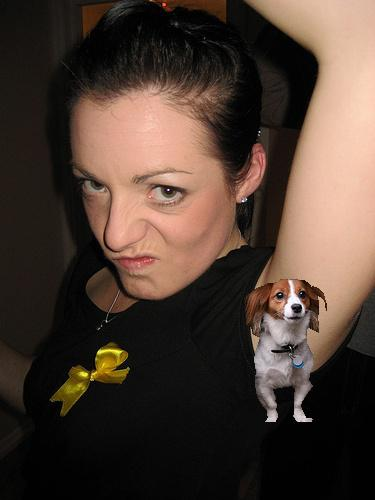tampered: (245, 280, 327, 422)
